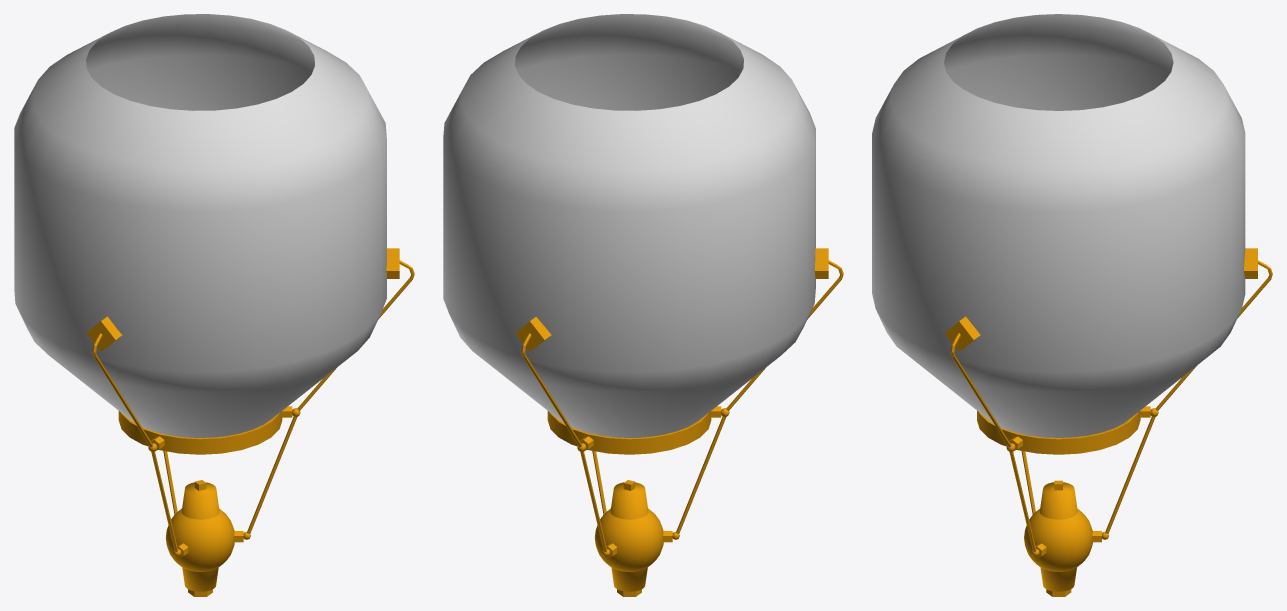
The model's file is lantern_model_3.fbx.
The picture shows the model from 3 angles, left to right: view 1: azimuth 30°, elevation 25°; view 2: azimuth 150°, elevation 25°; view 3: azimuth 270°, elevation 25°; orthographic projection.
Visible parts, largest first — view 1: Cylinder.002, Cube.001; view 2: Cylinder.002, Cube.001; view 3: Cylinder.002, Cube.001.
Boxes of the visible parts, <box> form: Cylinder.002: <box>14,14,386,437</box>; Cube.001: <box>86,248,414,596</box>; Cylinder.002: <box>443,14,815,437</box>; Cube.001: <box>515,248,843,596</box>; Cylinder.002: <box>872,14,1245,437</box>; Cube.001: <box>944,248,1272,596</box>.
Size of the model in its own units: 172 by 269 by 185.
